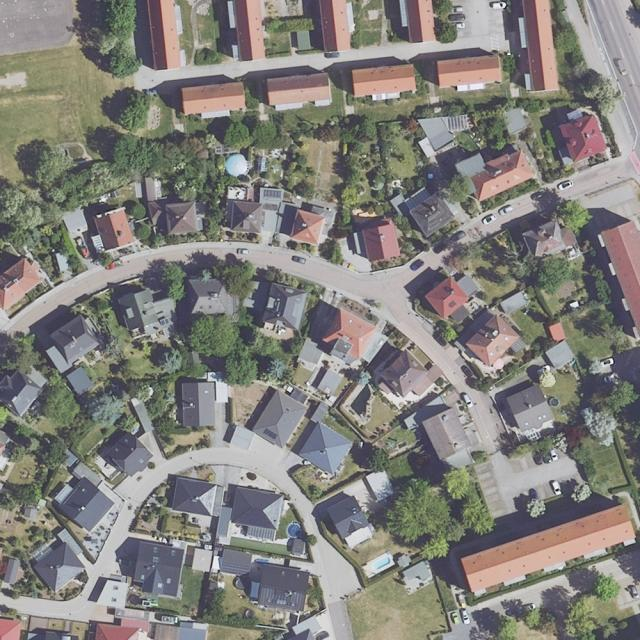PV: (260, 586, 307, 612), (243, 525, 276, 542), (220, 561, 250, 576)
ST: (263, 428, 277, 440), (159, 318, 170, 326)
